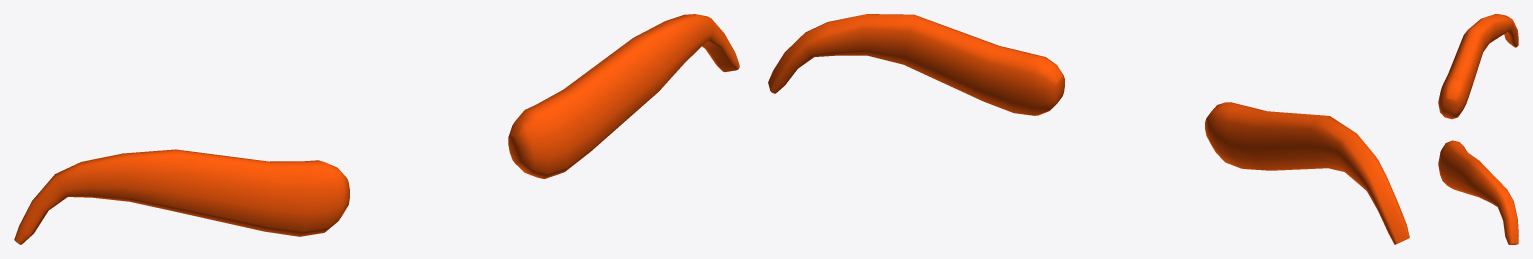
The model's file is Eyebrows_20_06.fbx.
3 renders of one model, left to right at view 1: azimuth 30°, elevation 25°; view 2: azimuth 150°, elevation 25°; view 3: azimuth 270°, elevation 25°, orthographic. The views are drawn at different scales.
Parts seen in each view (by area): view 1: Eyebrows_20_06; view 2: Eyebrows_20_06; view 3: Eyebrows_20_06.
Boxes of the visible parts, bbox=[...] form: Eyebrows_20_06: bbox=[14, 14, 739, 244]; Eyebrows_20_06: bbox=[768, 14, 1409, 244]; Eyebrows_20_06: bbox=[1438, 14, 1518, 244].
Bounding box in the file's own units: 19.57 × 2.5 × 3.27.
